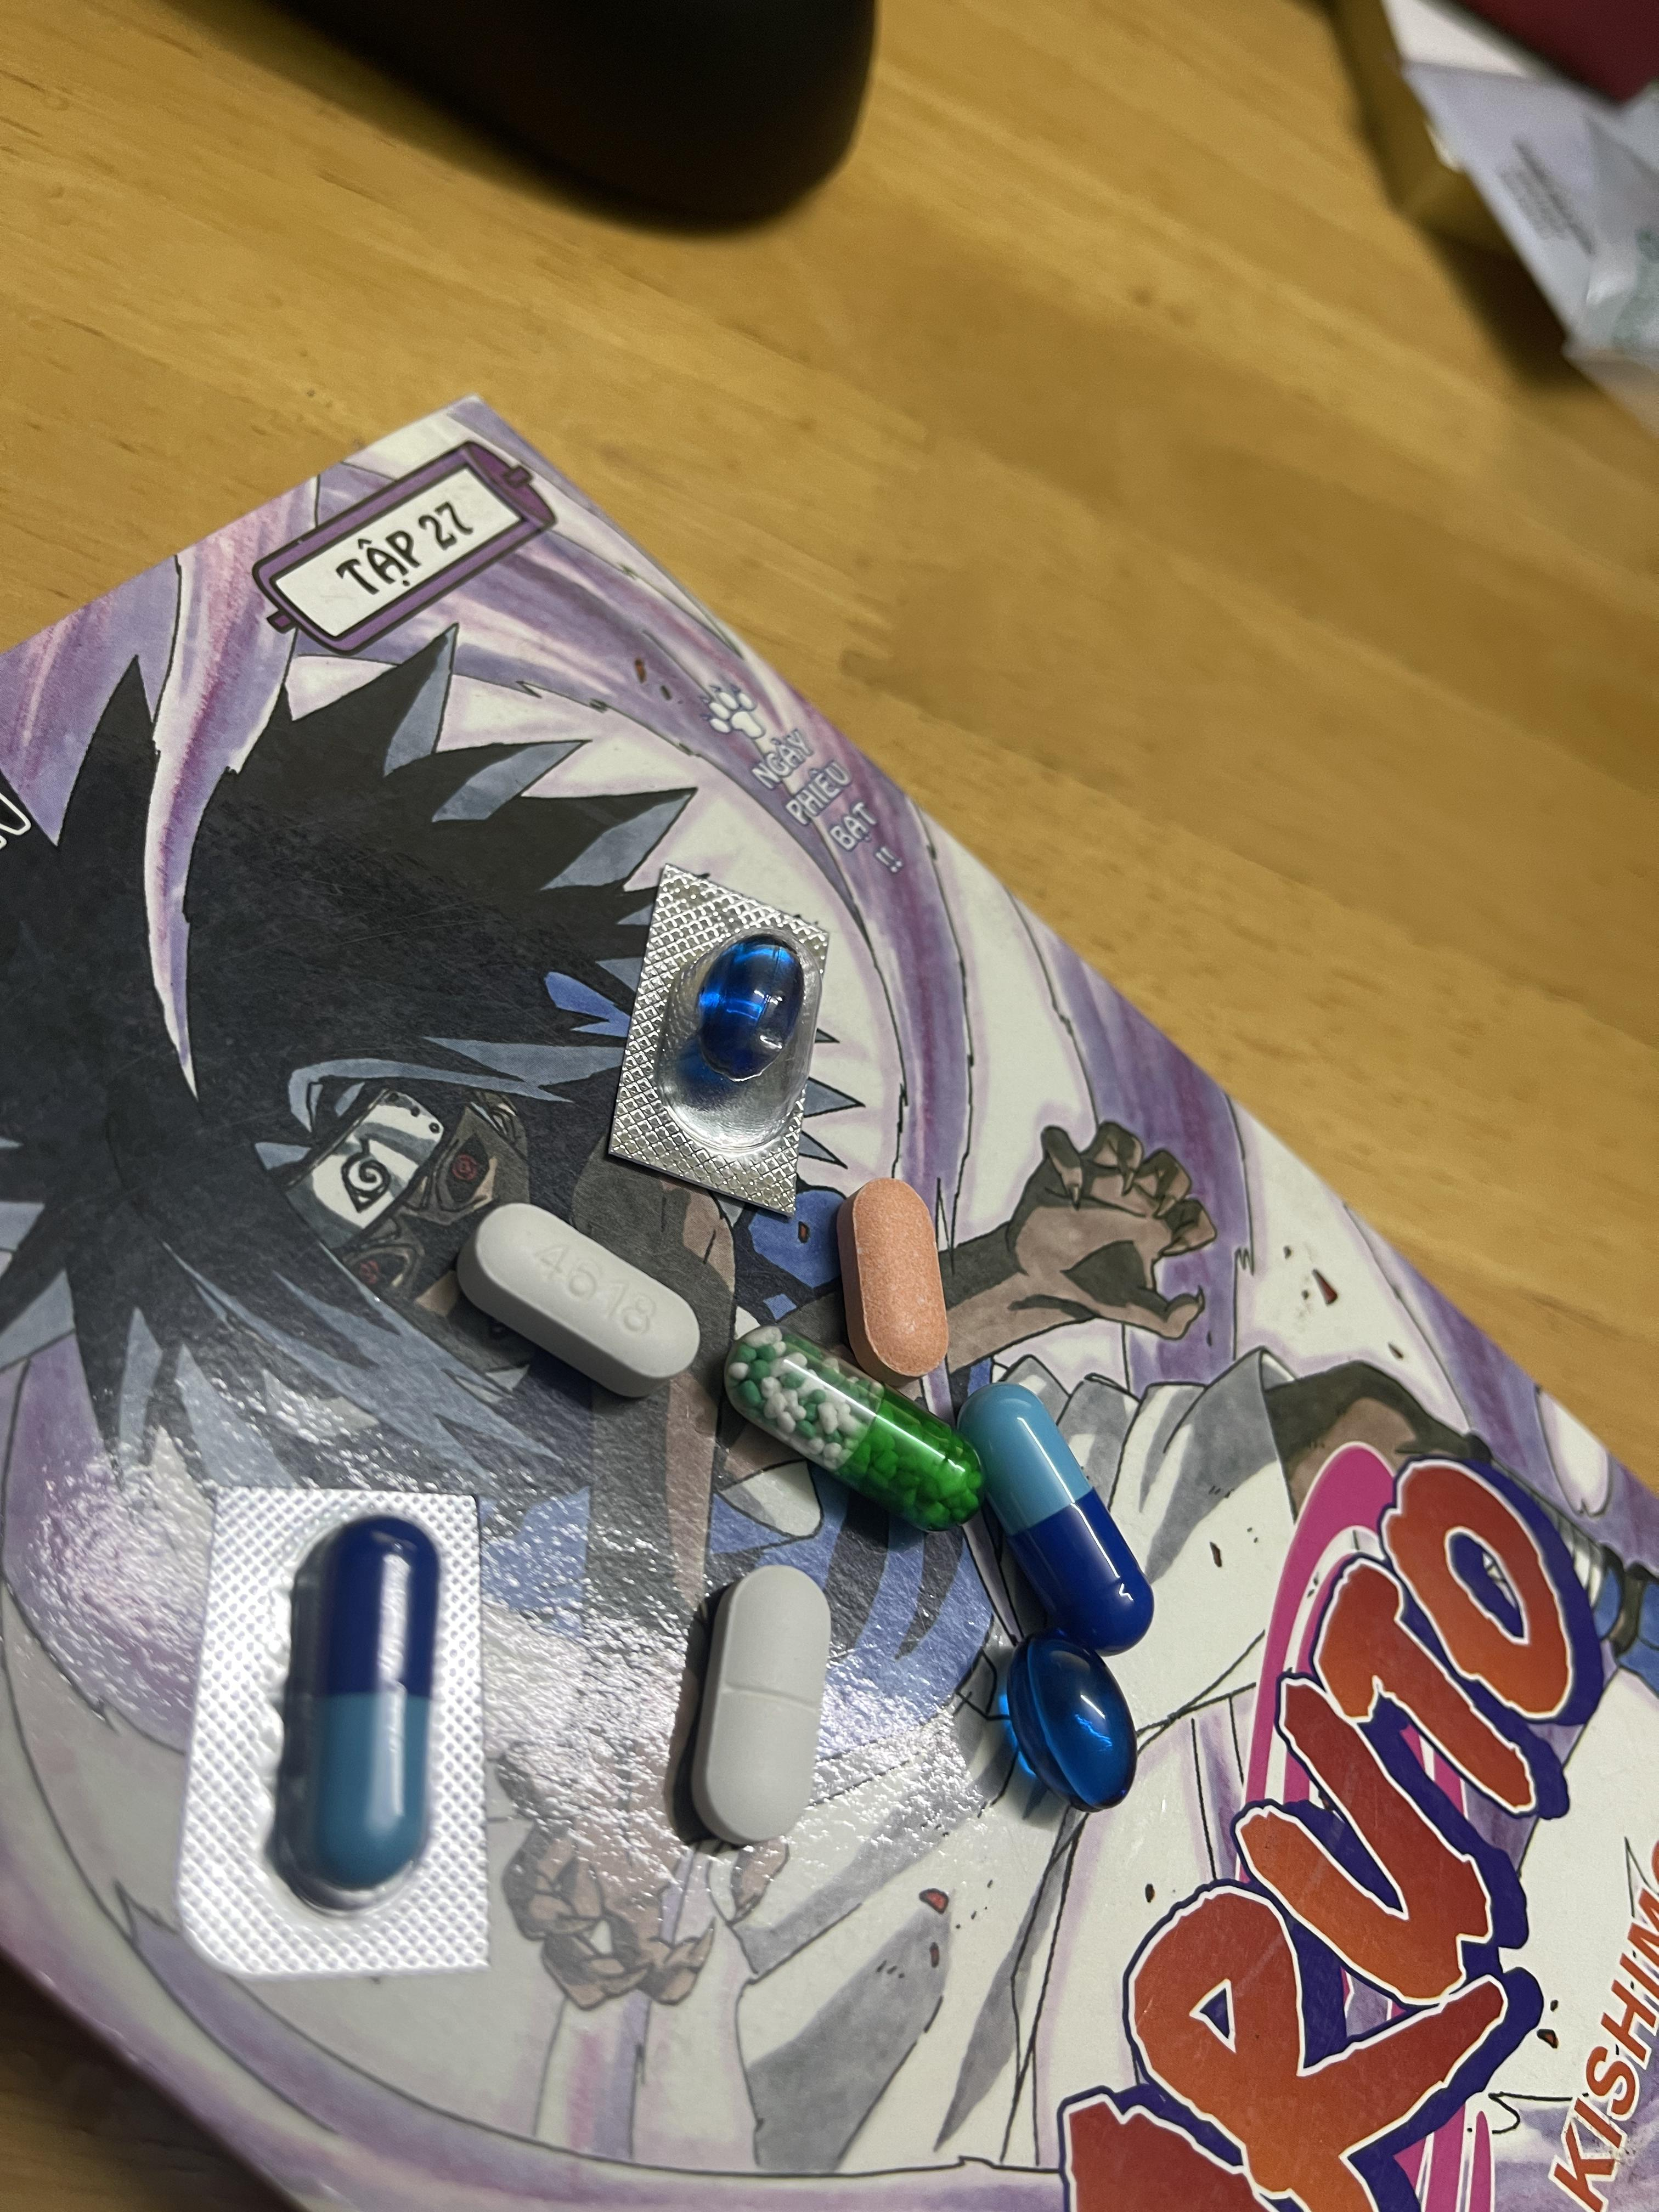Lincomyxin_500mg: (1002, 1629, 1136, 1808), (694, 941, 802, 1078)
Loratadine_10mg: (842, 1181, 945, 1372)
Paracetamol_350mg: (688, 1562, 831, 1846)
Paracetamol_500mg: (462, 1200, 704, 1397)
Paracetamol_650mg: (732, 1325, 976, 1527)
pill: (289, 1526, 436, 1895), (960, 1371, 1154, 1639)
